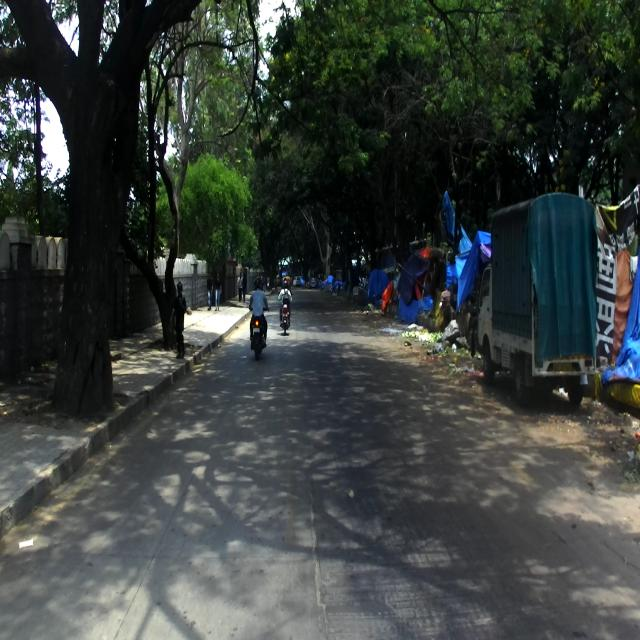tree ahead at: (45, 46, 132, 420)
truck ahead at: (479, 186, 600, 401)
